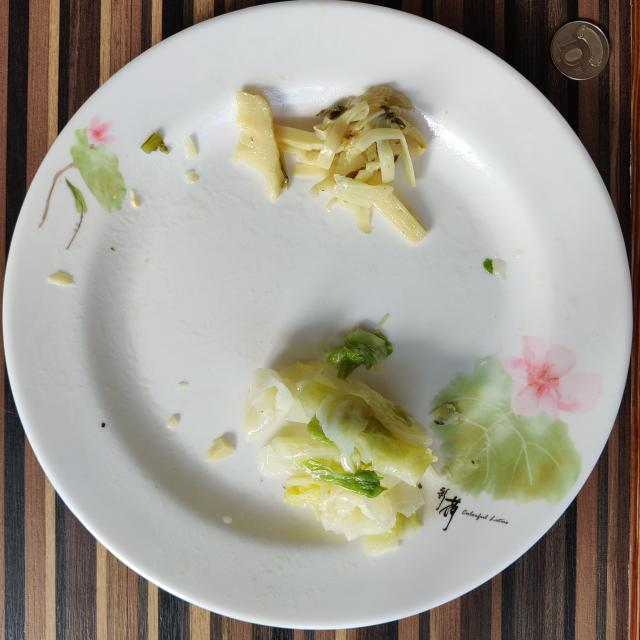cabbage: (242, 329, 439, 555)
coin: (550, 20, 609, 81)
